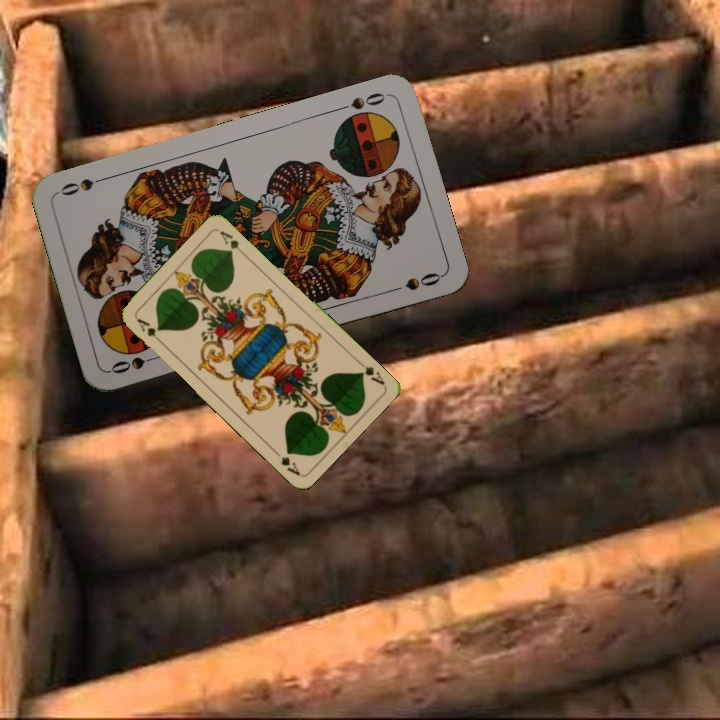GA: (353, 356, 387, 387), (133, 314, 165, 346)
SO: (106, 350, 165, 376), (333, 88, 391, 114)
